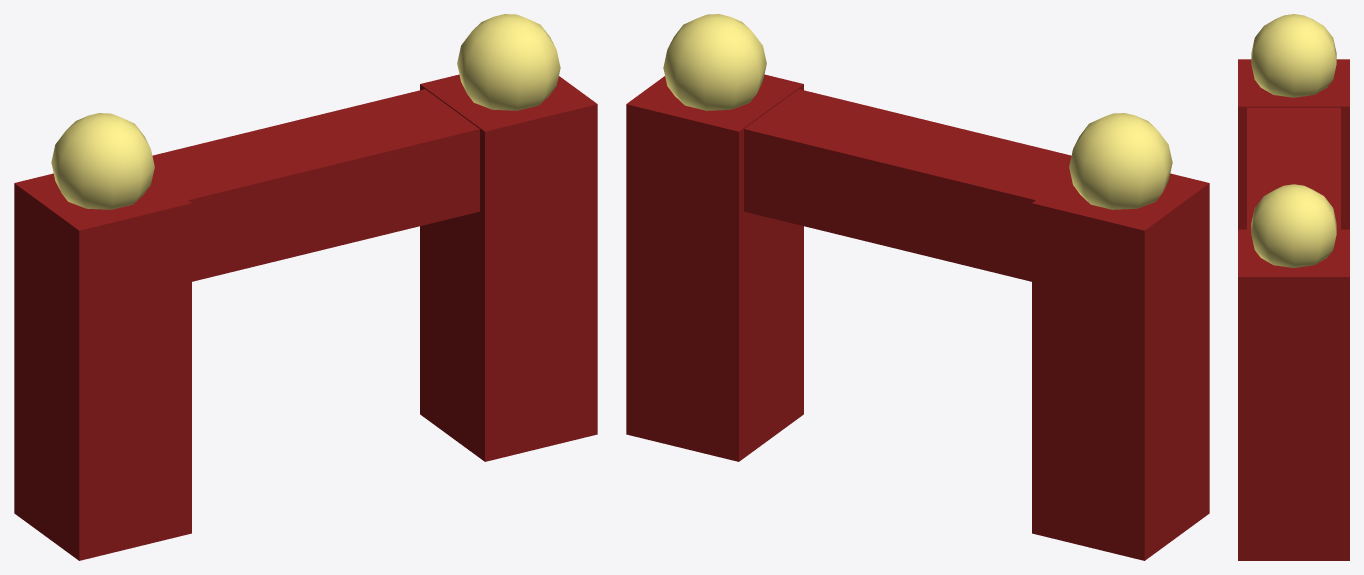
File: old_gate.glb
3 renders of one model, left to right at view 1: azimuth 30°, elevation 25°; view 2: azimuth 150°, elevation 25°; view 3: azimuth 270°, elevation 25°, orthographic. The views are drawn at different scales.
Parts seen in each view (by area): view 1: OldGate; view 2: OldGate; view 3: OldGate.
Part boxes in pixels (<box>): OldGate: <box>14,14,597,560</box>; OldGate: <box>626,14,1209,560</box>; OldGate: <box>1238,14,1349,560</box>.
Bounding box in the file's own units: 23 × 17.2 × 5.
